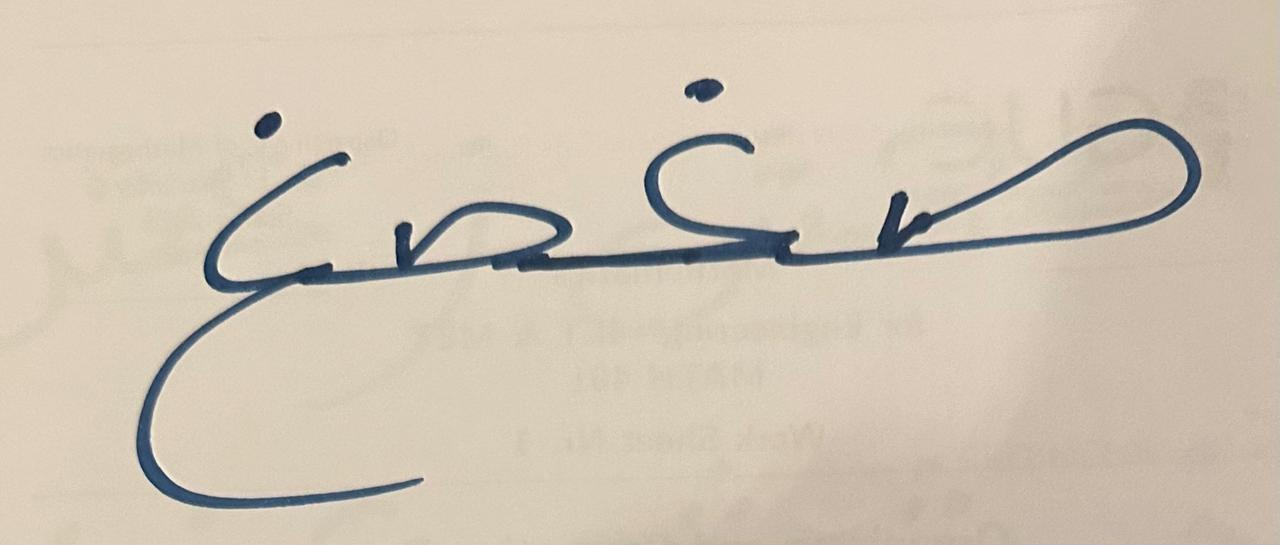ghain: (108, 39, 369, 535), (589, 16, 851, 336)
seen: (857, 22, 1219, 354), (372, 81, 584, 336)
